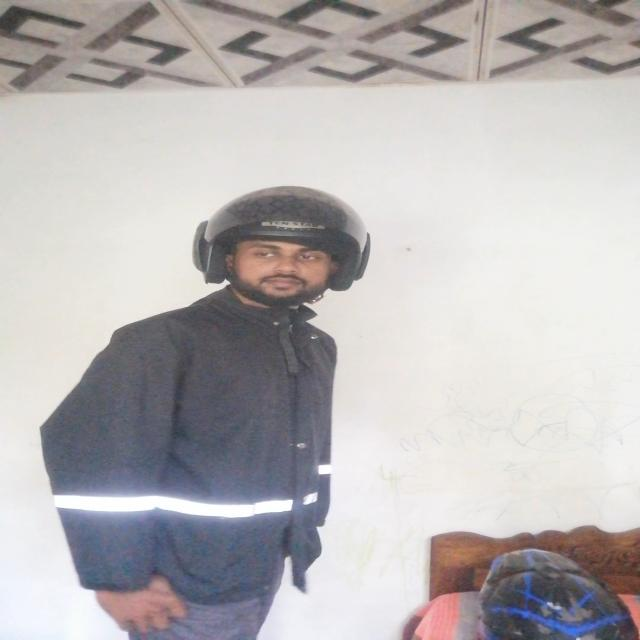Helmet_Wearer: (188, 178, 362, 315)
Jacket_Wearer: (51, 301, 364, 607)
Person: (61, 173, 403, 640)
